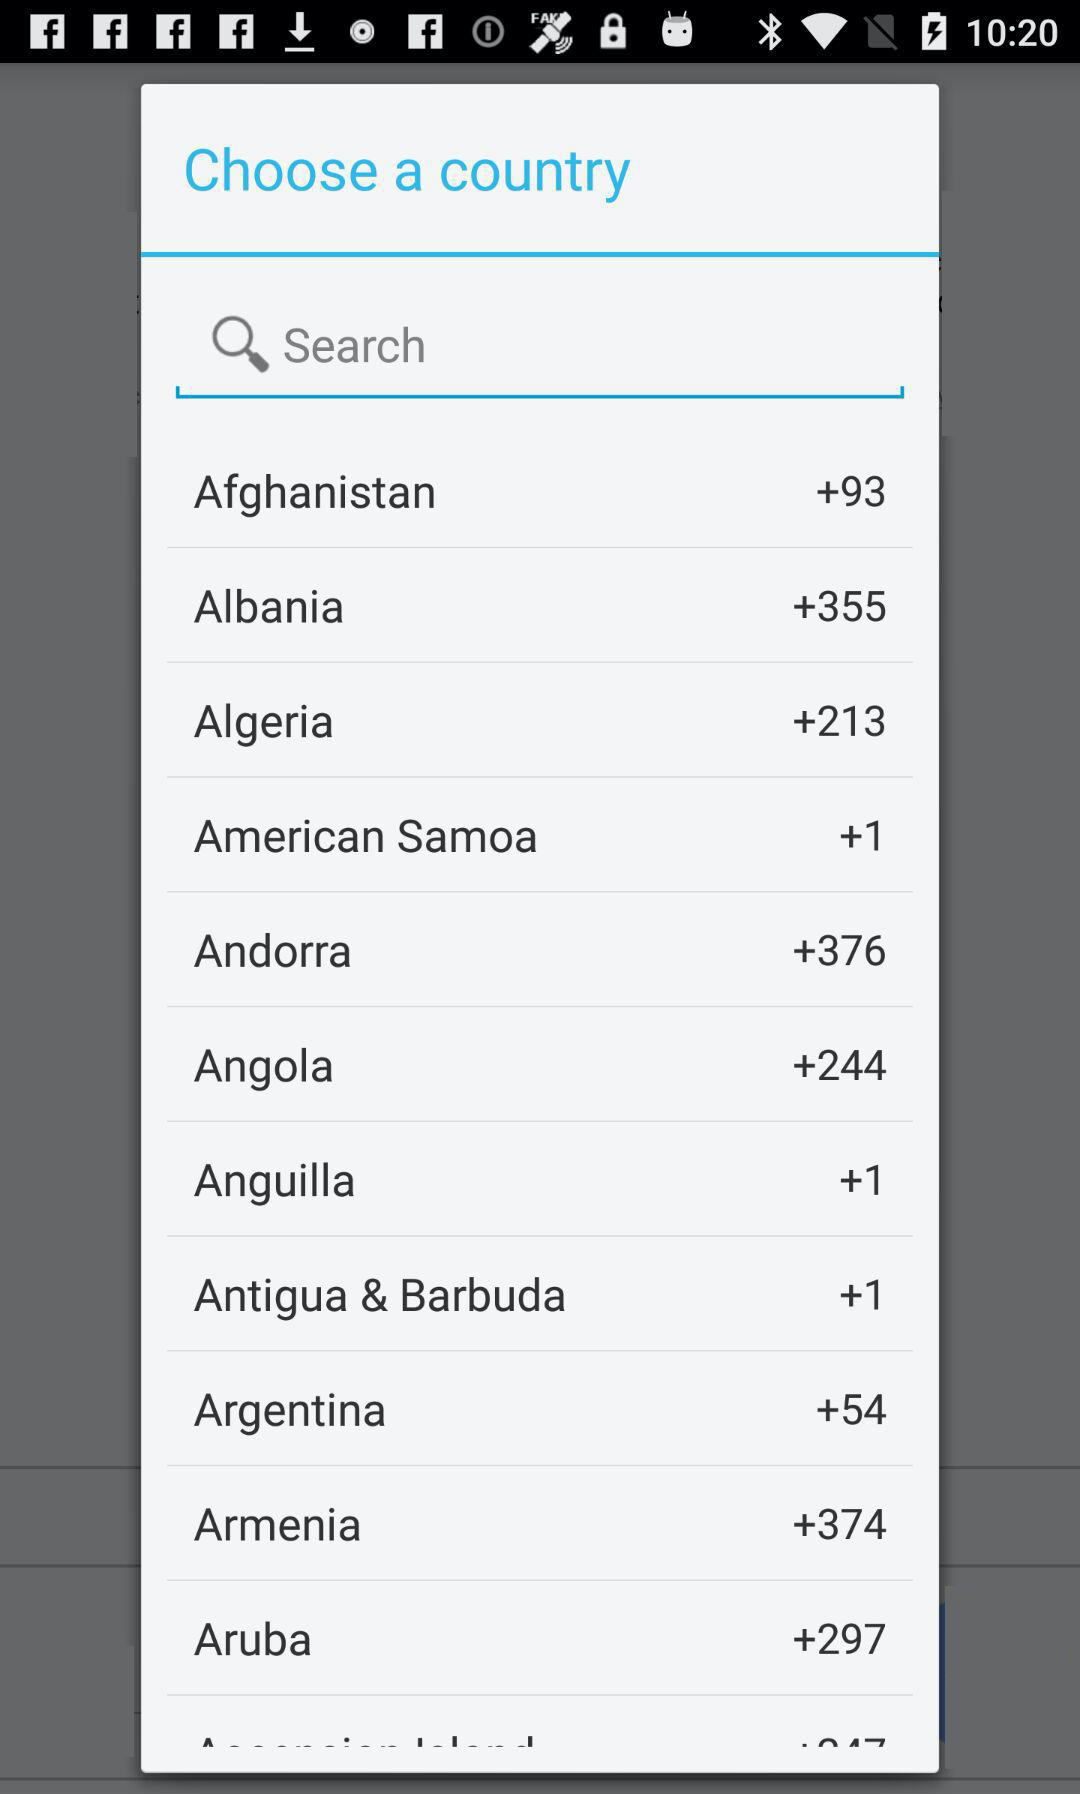EditText: (176, 317, 904, 401)
Icon: (211, 317, 272, 375)
Modal: (141, 85, 940, 1773)
Text: (186, 147, 632, 205), (195, 1278, 566, 1321), (193, 819, 536, 855), (195, 473, 434, 519), (195, 1393, 386, 1436), (195, 1162, 355, 1205), (196, 702, 334, 748), (193, 932, 351, 970), (196, 1047, 334, 1090), (195, 1507, 363, 1543), (193, 588, 342, 627), (284, 327, 425, 365), (196, 1620, 311, 1656), (794, 933, 887, 967), (794, 704, 887, 738), (794, 589, 887, 624), (793, 1508, 887, 1542), (794, 1049, 887, 1082), (794, 1624, 885, 1654), (817, 474, 885, 507), (817, 1394, 887, 1426), (840, 1279, 879, 1311), (840, 1165, 879, 1197), (842, 820, 883, 850)
UpperTaskBar: (1, 1, 1080, 64)
